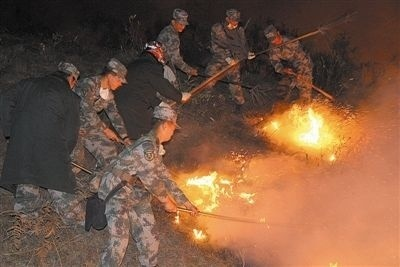fire: (175, 167, 254, 214), (262, 102, 339, 150)
